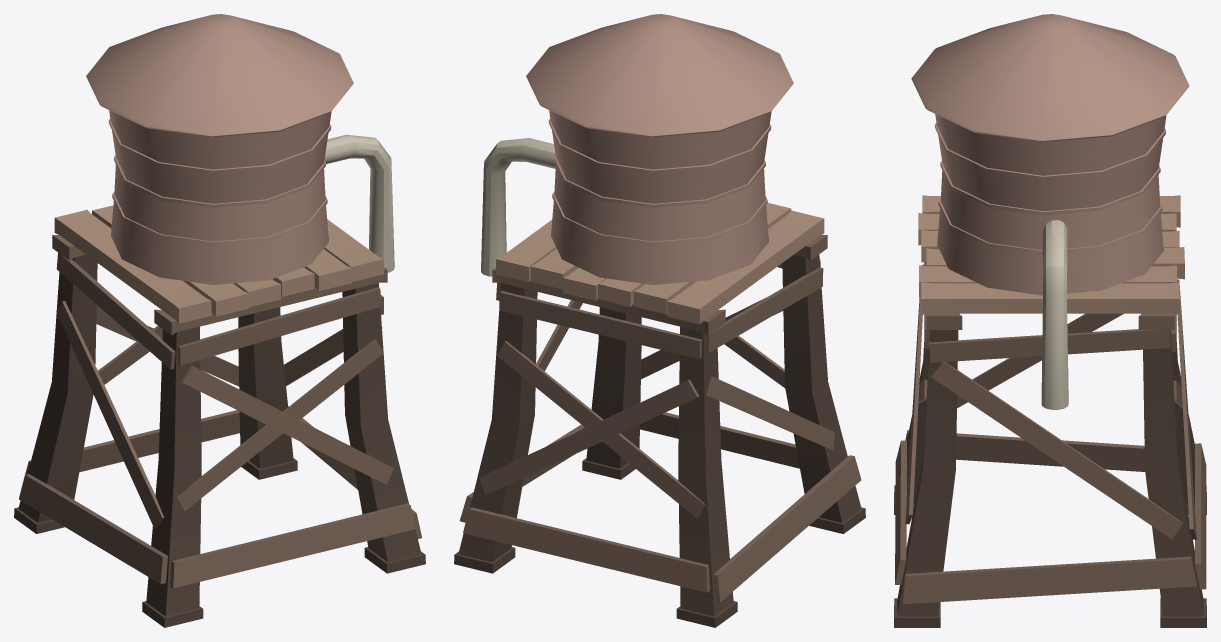
The model's file is CaixaDAgua.fbx.
3 views of the same model, side by side, from view 1: azimuth 30°, elevation 25°; view 2: azimuth 150°, elevation 25°; view 3: azimuth 270°, elevation 25° (orthographic). The views are drawn at different scales.
Parts seen in each view (by area): view 1: CaixaDAguaLP, TabuasApoioCaixaLP, PilarCaixaLP, ApoioCaixaLP, SaidaAguaCaixaLP, BasePilarLP; view 2: CaixaDAguaLP, TabuasApoioCaixaLP, PilarCaixaLP, ApoioCaixaLP, SaidaAguaCaixaLP, BasePilarLP; view 3: CaixaDAguaLP, TabuasApoioCaixaLP, PilarCaixaLP, ApoioCaixaLP, SaidaAguaCaixaLP, BasePilarLP.
Part boxes in pixels (x1,y1,x2,y2): CaixaDAguaLP: (86,14,353,284); TabuasApoioCaixaLP: (19,252,421,588); PilarCaixaLP: (14,254,425,627); ApoioCaixaLP: (54,205,383,323); SaidaAguaCaixaLP: (324,134,394,272); BasePilarLP: (52,235,387,335); CaixaDAguaLP: (526,14,793,284); TabuasApoioCaixaLP: (459,259,861,602); PilarCaixaLP: (454,254,865,627); ApoioCaixaLP: (496,203,824,324); SaidaAguaCaixaLP: (481,138,555,276); BasePilarLP: (492,235,827,335); CaixaDAguaLP: (911,14,1189,295); TabuasApoioCaixaLP: (895,262,1206,604); PilarCaixaLP: (894,330,1206,627); ApoioCaixaLP: (918,195,1184,314); SaidaAguaCaixaLP: (1041,220,1068,409); BasePilarLP: (926,313,1174,329).
Bounding box in the file's own units: 396 × 642 × 337.
